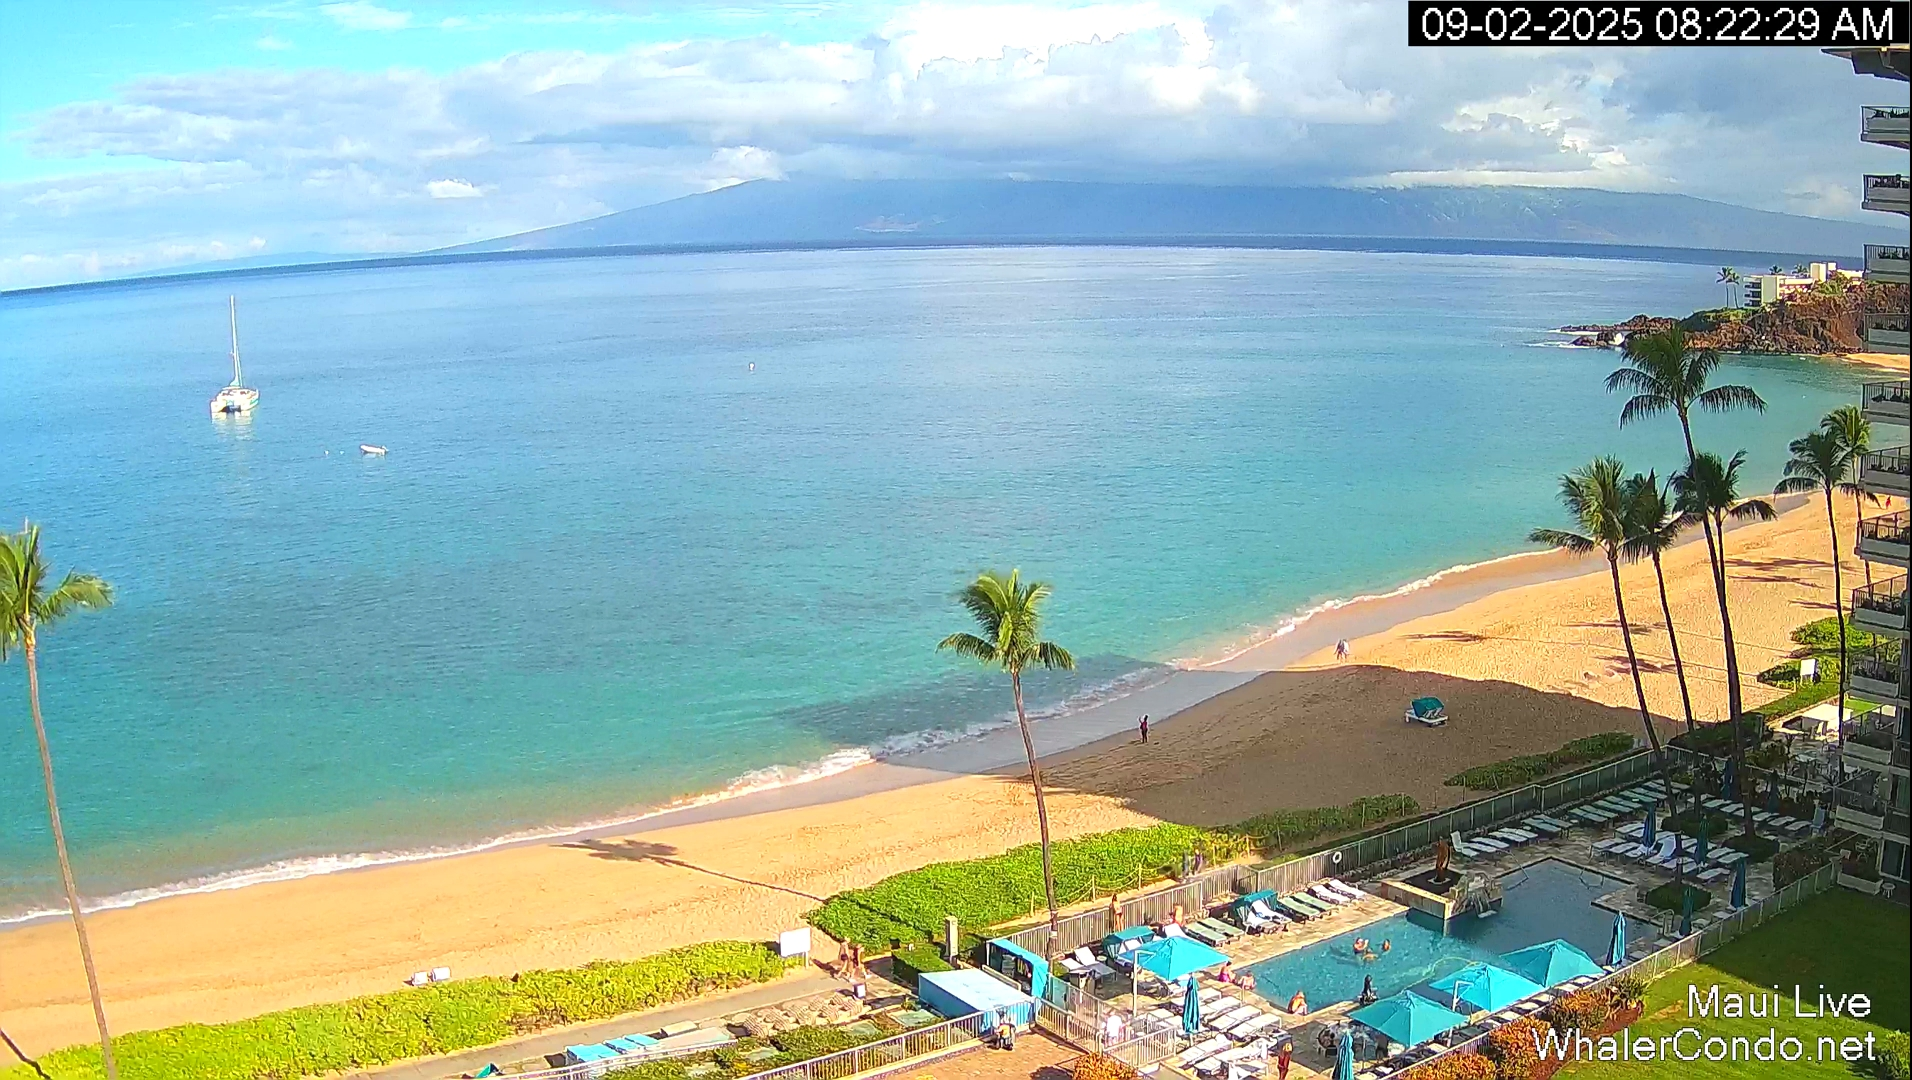boat: (452, 1032, 640, 1080), (209, 294, 260, 415), (359, 444, 389, 455)
person: (1105, 1010, 1123, 1046), (1287, 990, 1308, 1016), (1374, 1031, 1389, 1061), (996, 1024, 1011, 1050), (1139, 715, 1149, 743), (1334, 639, 1345, 664), (1217, 966, 1232, 983), (1362, 974, 1373, 996), (1173, 902, 1183, 926)
